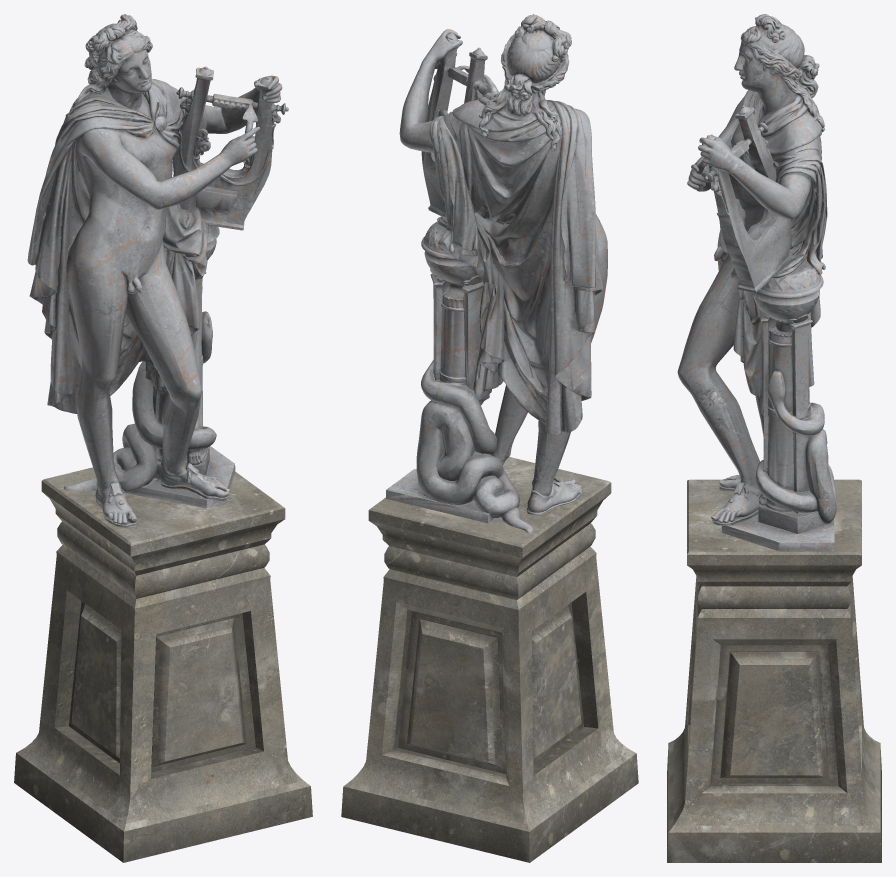
Rendered from apoll_sculpture.glb.
3 views of the same model, side by side, from view 1: azimuth 30°, elevation 25°; view 2: azimuth 150°, elevation 25°; view 3: azimuth 270°, elevation 25° (orthographic).
Parts seen in each view (by area): view 1: SkulpturPlinthe_1, Apoll-Skulptur_0; view 2: SkulpturPlinthe_1, Apoll-Skulptur_0; view 3: SkulpturPlinthe_1, Apoll-Skulptur_0.
Boxes of the visible parts, bbox=[...] form: SkulpturPlinthe_1: bbox=[14, 467, 312, 862]; Apoll-Skulptur_0: bbox=[27, 14, 288, 527]; SkulpturPlinthe_1: bbox=[341, 457, 638, 862]; Apoll-Skulptur_0: bbox=[386, 14, 607, 532]; SkulpturPlinthe_1: bbox=[667, 479, 881, 862]; Apoll-Skulptur_0: bbox=[677, 14, 836, 551].
Bounding box in the file's own units: 2.08 × 7.34 × 1.83.
2 materials, 2 textured.
